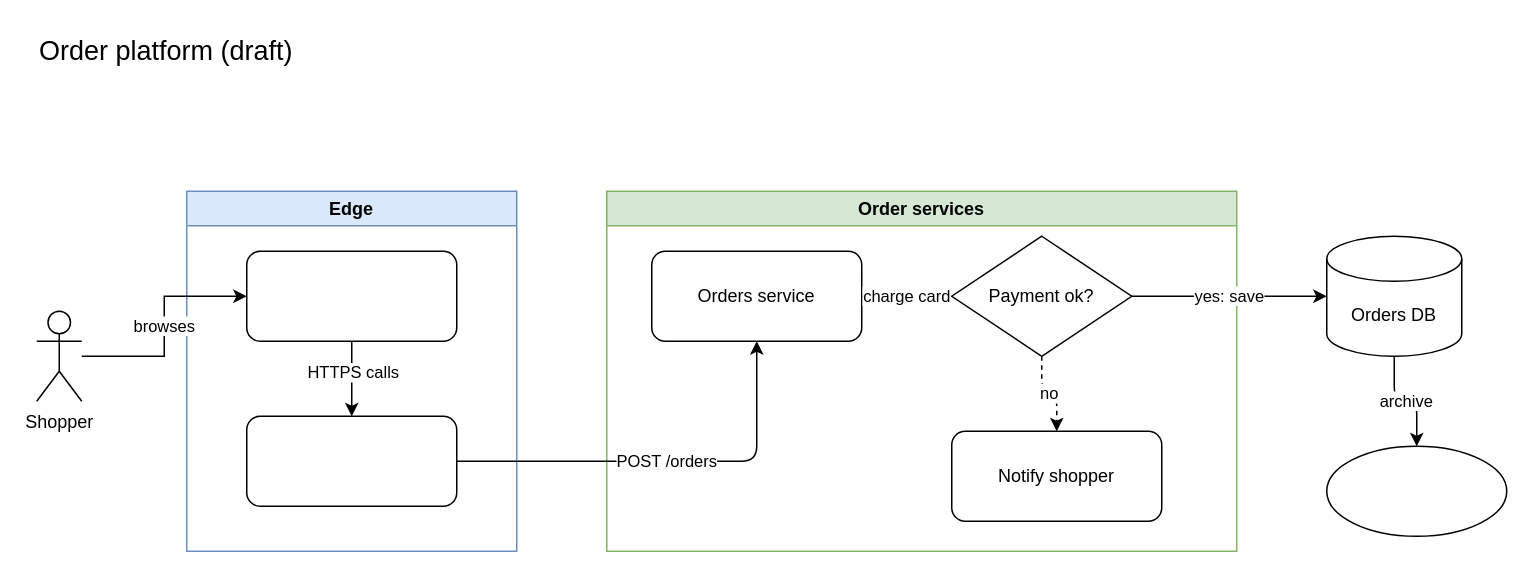
Image size: 1533x578. Some labels were removed from this diagram. The shapes that lost their labels are listed below. From the top down, each one's centre as x and y in pixels, then its label:
At point 351,295: "Web app React storefront".
At point 351,460: "API gateway".
At point 1416,490: "Order closed".
